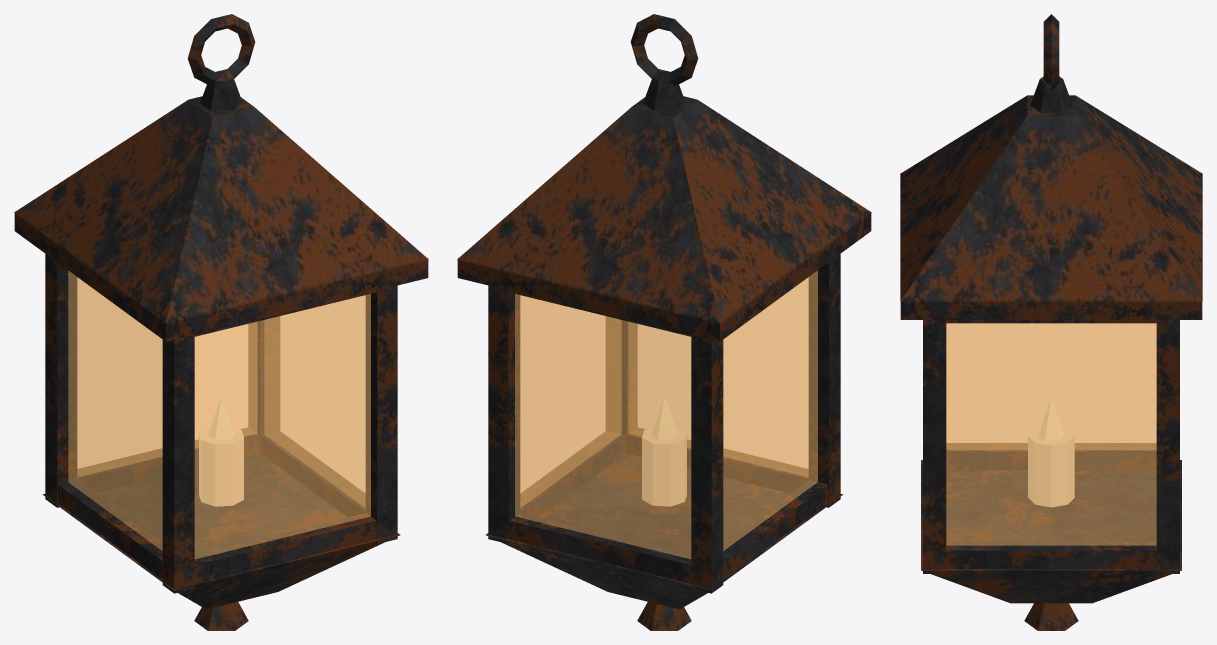
File: lantern_iron_a.glb
3 views of the same model, side by side, from view 1: azimuth 30°, elevation 25°; view 2: azimuth 150°, elevation 25°; view 3: azimuth 270°, elevation 25° (orthographic).
Parts seen in each view (by area): view 1: lantern_iron_a; view 2: lantern_iron_a; view 3: lantern_iron_a.
Part boxes in pixels (bbox=[...]): lantern_iron_a: bbox=[14, 14, 428, 630]; lantern_iron_a: bbox=[457, 14, 871, 630]; lantern_iron_a: bbox=[900, 14, 1202, 630].
Bounding box in the file's own units: 0.3111 × 0.683 × 0.3111.
4 materials, 1 textured.
